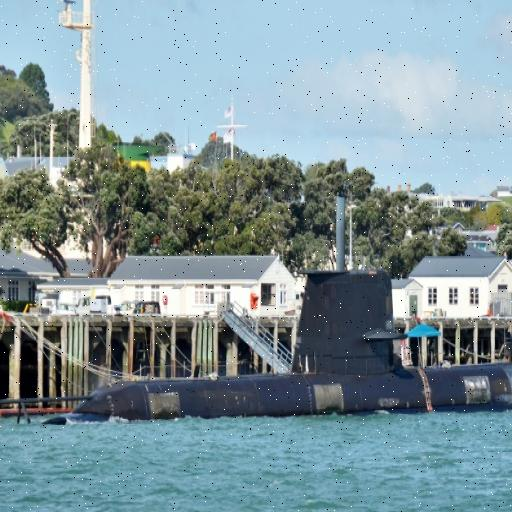submarine: (50, 257, 512, 426)
